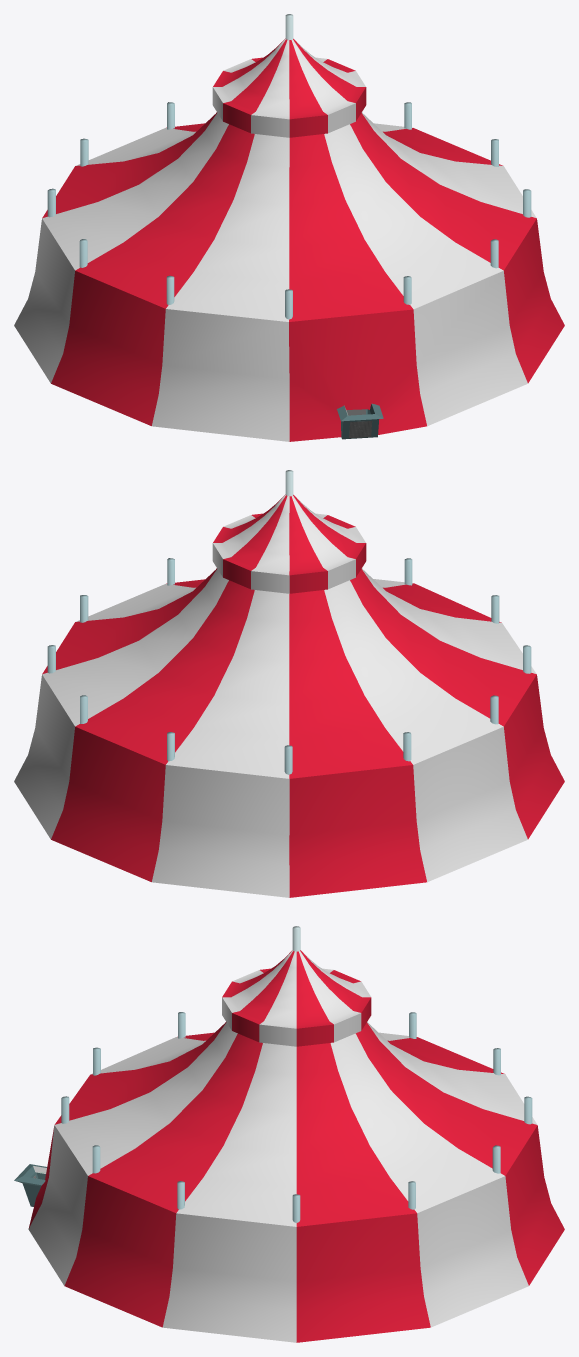
File: Circus.fbx
3 renders of one model, top to bottom at view 1: azimuth 30°, elevation 25°; view 2: azimuth 150°, elevation 25°; view 3: azimuth 270°, elevation 25°, orthographic. The views are drawn at different scales.
Visible parts, largest first — view 1: Circle, Cylinder.006, Cube.013; view 2: Circle, Cylinder.006; view 3: Circle, Cylinder.006, Cube.013.
Boxes of the visible parts, x1=… form: Circle: x1=14, y1=38, x2=564, y2=441; Cylinder.006: x1=47, y1=102, x2=531, y2=319; Cube.013: x1=337, y1=403, x2=383, y2=439; Circle: x1=14, y1=494, x2=564, y2=897; Cylinder.006: x1=47, y1=558, x2=531, y2=774; Circle: x1=28, y1=950, x2=564, y2=1342; Cylinder.006: x1=61, y1=1012, x2=532, y2=1222; Cube.013: x1=14, y1=1164, x2=47, y2=1206.
Size of the model in its own units: 919 by 944 by 572.
